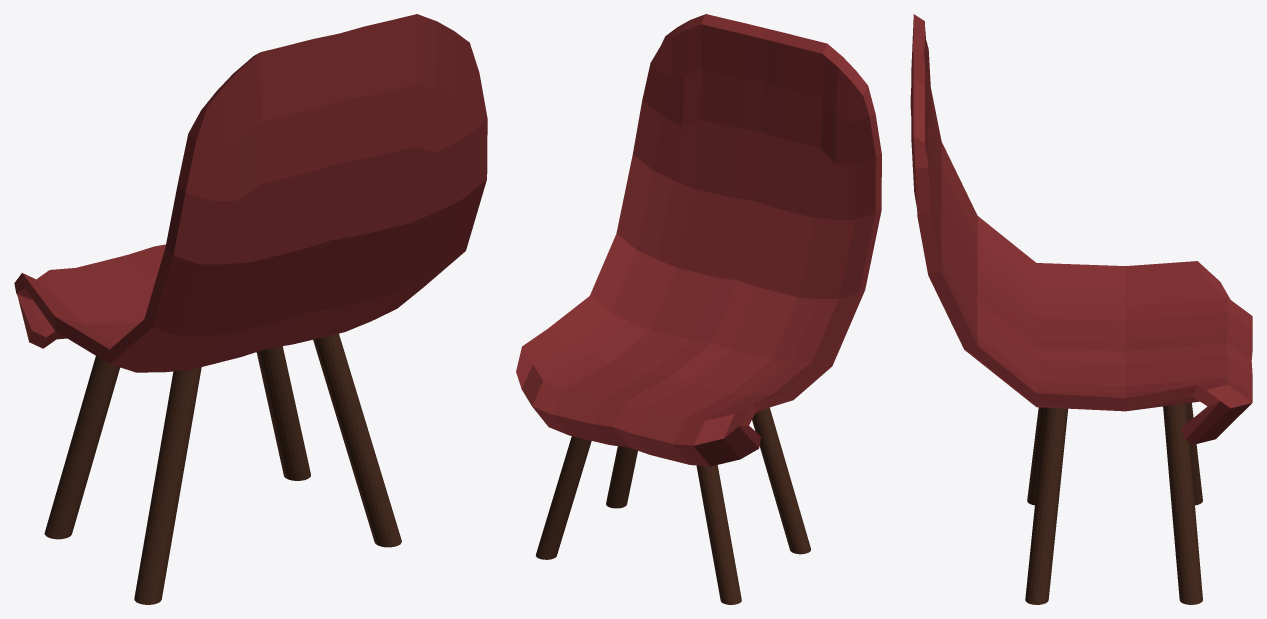
File: Chair.fbx
3 views of the same model, side by side, from view 1: azimuth 30°, elevation 25°; view 2: azimuth 150°, elevation 25°; view 3: azimuth 270°, elevation 25° (orthographic). The views are drawn at different scales.
Visible parts, largest first — view 1: sedia_seduta, sedia_gambe2; view 2: sedia_seduta, sedia_gambe2; view 3: sedia_seduta, sedia_gambe2.
Part boxes in pixels (x1,y1,x2,y2): sedia_seduta: (14,14,487,372); sedia_gambe2: (44,333,401,604); sedia_seduta: (516,14,881,466); sedia_gambe2: (535,407,810,604); sedia_seduta: (910,14,1252,444); sedia_gambe2: (1025,402,1202,604).
Bounding box in the file's own units: 39.33 × 69.9 × 43.06.
